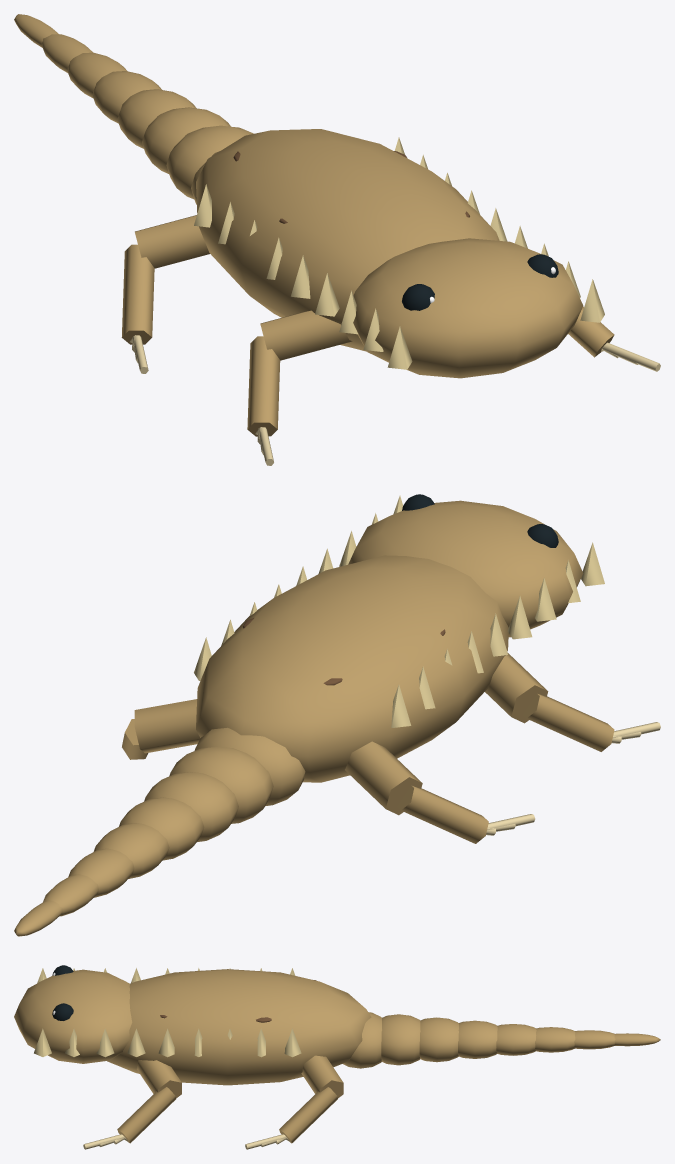
The model's file is bearded.glb.
3 renders of one model, top to bottom at view 1: azimuth 30°, elevation 25°; view 2: azimuth 150°, elevation 25°; view 3: azimuth 270°, elevation 25°, orthographic. The views are drawn at different scales.
Parts seen in each view (by area): view 1: skin (×14), eye; view 2: skin (×15); view 3: skin (×14), accent (×2), eye.
Boxes of the visible parts, x1=… form: skin (×14): x1=14, y1=14, x2=614, y2=436; eye: x1=402, y1=284, x2=434, y2=310; skin (×15): x1=14, y1=500, x2=614, y2=936; skin (×14): x1=14, y1=969, x2=660, y2=1143; accent (×2): x1=34, y1=1028, x2=145, y2=1056; eye: x1=52, y1=1003, x2=73, y2=1020.
Bounding box in the file's own units: 2.55 × 1.04 × 5.6.
